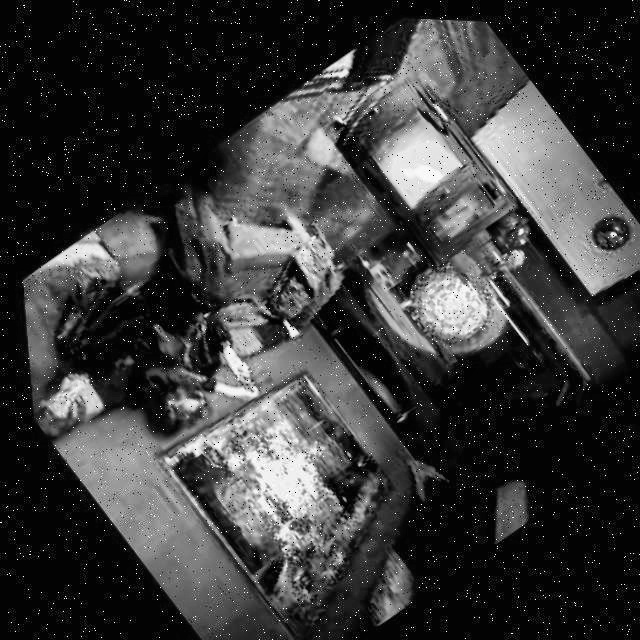Fire: (372, 121, 459, 202)
